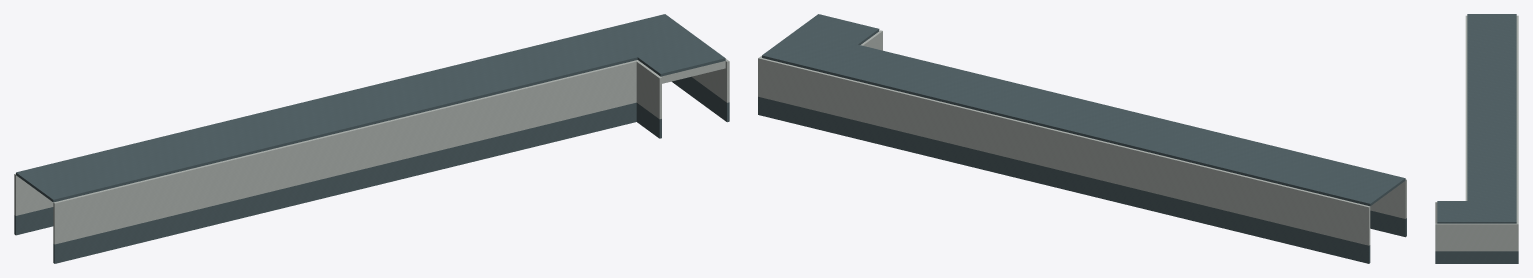
Rendered from AST-STF-G3-007.glb.
The picture shows the model from 3 angles, left to right: view 1: azimuth 30°, elevation 25°; view 2: azimuth 150°, elevation 25°; view 3: azimuth 270°, elevation 25°; orthographic projection. The views are drawn at different scales.
Visible parts, largest first — view 1: screen_wall_staff_white_paint_-4_-25, screen_wall_staff_white_paint_-3_-25, overhead_staff_bluegrey_paint_-4_-25, overhead_staff_bluegrey_paint_-3_-25, screen_wall_staff_white_paint_-5_-25, overhead_staff_bluegrey_paint_-5_-25, overhead_staff_bluegrey_paint_-2_-25, screen_wall_staff_bluegrey_paint_-3_-25, screen_wall_staff_bluegrey_paint_-4_-25, screen_wall_staff_bluegrey_paint_-5_-25, screen_wall_staff_white_paint_-2_-25, screen_wall_staff_bluegrey_paint_-2_-25 (+1 smaller); view 2: screen_wall_staff_white_paint_-4_-25, screen_wall_staff_white_paint_-3_-25, overhead_staff_bluegrey_paint_-4_-25, overhead_staff_bluegrey_paint_-3_-25, screen_wall_staff_white_paint_-5_-25, overhead_staff_bluegrey_paint_-5_-25, overhead_staff_bluegrey_paint_-2_-25, screen_wall_staff_bluegrey_paint_-4_-25, screen_wall_staff_bluegrey_paint_-3_-25, screen_wall_staff_white_paint_-2_-25, screen_wall_staff_bluegrey_paint_-5_-25, screen_wall_staff_bluegrey_paint_-2_-25; view 3: overhead_staff_bluegrey_paint_-4_-25, overhead_staff_bluegrey_paint_-3_-25, screen_wall_staff_white_paint_-2_-25, overhead_staff_bluegrey_paint_-2_-25, overhead_staff_bluegrey_paint_-5_-25, screen_wall_staff_bluegrey_paint_-2_-25, screen_wall_staff_white_paint_-4_-25, screen_wall_staff_white_paint_-3_-25, screen_wall_staff_white_paint_-5_-25.
Part boxes in pixels (x1,y1,x2,y2): screen_wall_staff_white_paint_-4_-25: (183,118,400,212); screen_wall_staff_white_paint_-3_-25: (400,65,617,159); overhead_staff_bluegrey_paint_-4_-25: (146,88,399,170); overhead_staff_bluegrey_paint_-3_-25: (362,35,615,117); screen_wall_staff_white_paint_-5_-25: (14,171,184,244); overhead_staff_bluegrey_paint_-5_-25: (16,140,183,202); overhead_staff_bluegrey_paint_-2_-25: (579,14,725,76); screen_wall_staff_bluegrey_paint_-3_-25: (401,107,617,179); screen_wall_staff_bluegrey_paint_-4_-25: (184,160,400,231); screen_wall_staff_bluegrey_paint_-5_-25: (14,207,184,263); screen_wall_staff_white_paint_-2_-25: (616,59,729,119); screen_wall_staff_bluegrey_paint_-2_-25: (617,77,729,138); screen_wall_staff_white_paint_-4_-25: (1044,127,1247,215); screen_wall_staff_white_paint_-3_-25: (841,77,1045,166); overhead_staff_bluegrey_paint_-4_-25: (1045,99,1283,176); overhead_staff_bluegrey_paint_-3_-25: (843,49,1080,126); screen_wall_staff_white_paint_-5_-25: (1247,176,1406,245); overhead_staff_bluegrey_paint_-5_-25: (1248,148,1405,206); overhead_staff_bluegrey_paint_-2_-25: (762,14,879,77); screen_wall_staff_bluegrey_paint_-4_-25: (1044,166,1247,233); screen_wall_staff_bluegrey_paint_-3_-25: (841,117,1044,184); screen_wall_staff_white_paint_-2_-25: (758,30,882,116); screen_wall_staff_bluegrey_paint_-5_-25: (1247,210,1406,263); screen_wall_staff_bluegrey_paint_-2_-25: (758,96,841,135); overhead_staff_bluegrey_paint_-4_-25: (1467,55,1516,124); overhead_staff_bluegrey_paint_-3_-25: (1467,125,1516,193); screen_wall_staff_white_paint_-2_-25: (1435,196,1518,251); overhead_staff_bluegrey_paint_-2_-25: (1437,194,1516,223); overhead_staff_bluegrey_paint_-5_-25: (1467,14,1516,55); screen_wall_staff_bluegrey_paint_-2_-25: (1435,251,1518,263); screen_wall_staff_white_paint_-4_-25: (1465,57,1518,126); screen_wall_staff_white_paint_-3_-25: (1465,126,1518,195); screen_wall_staff_white_paint_-5_-25: (1465,15,1518,57).
Bounding box in the file's own units: 36.14 × 3.34 × 6.08.
Materials: 4 (4 with a texture image).
